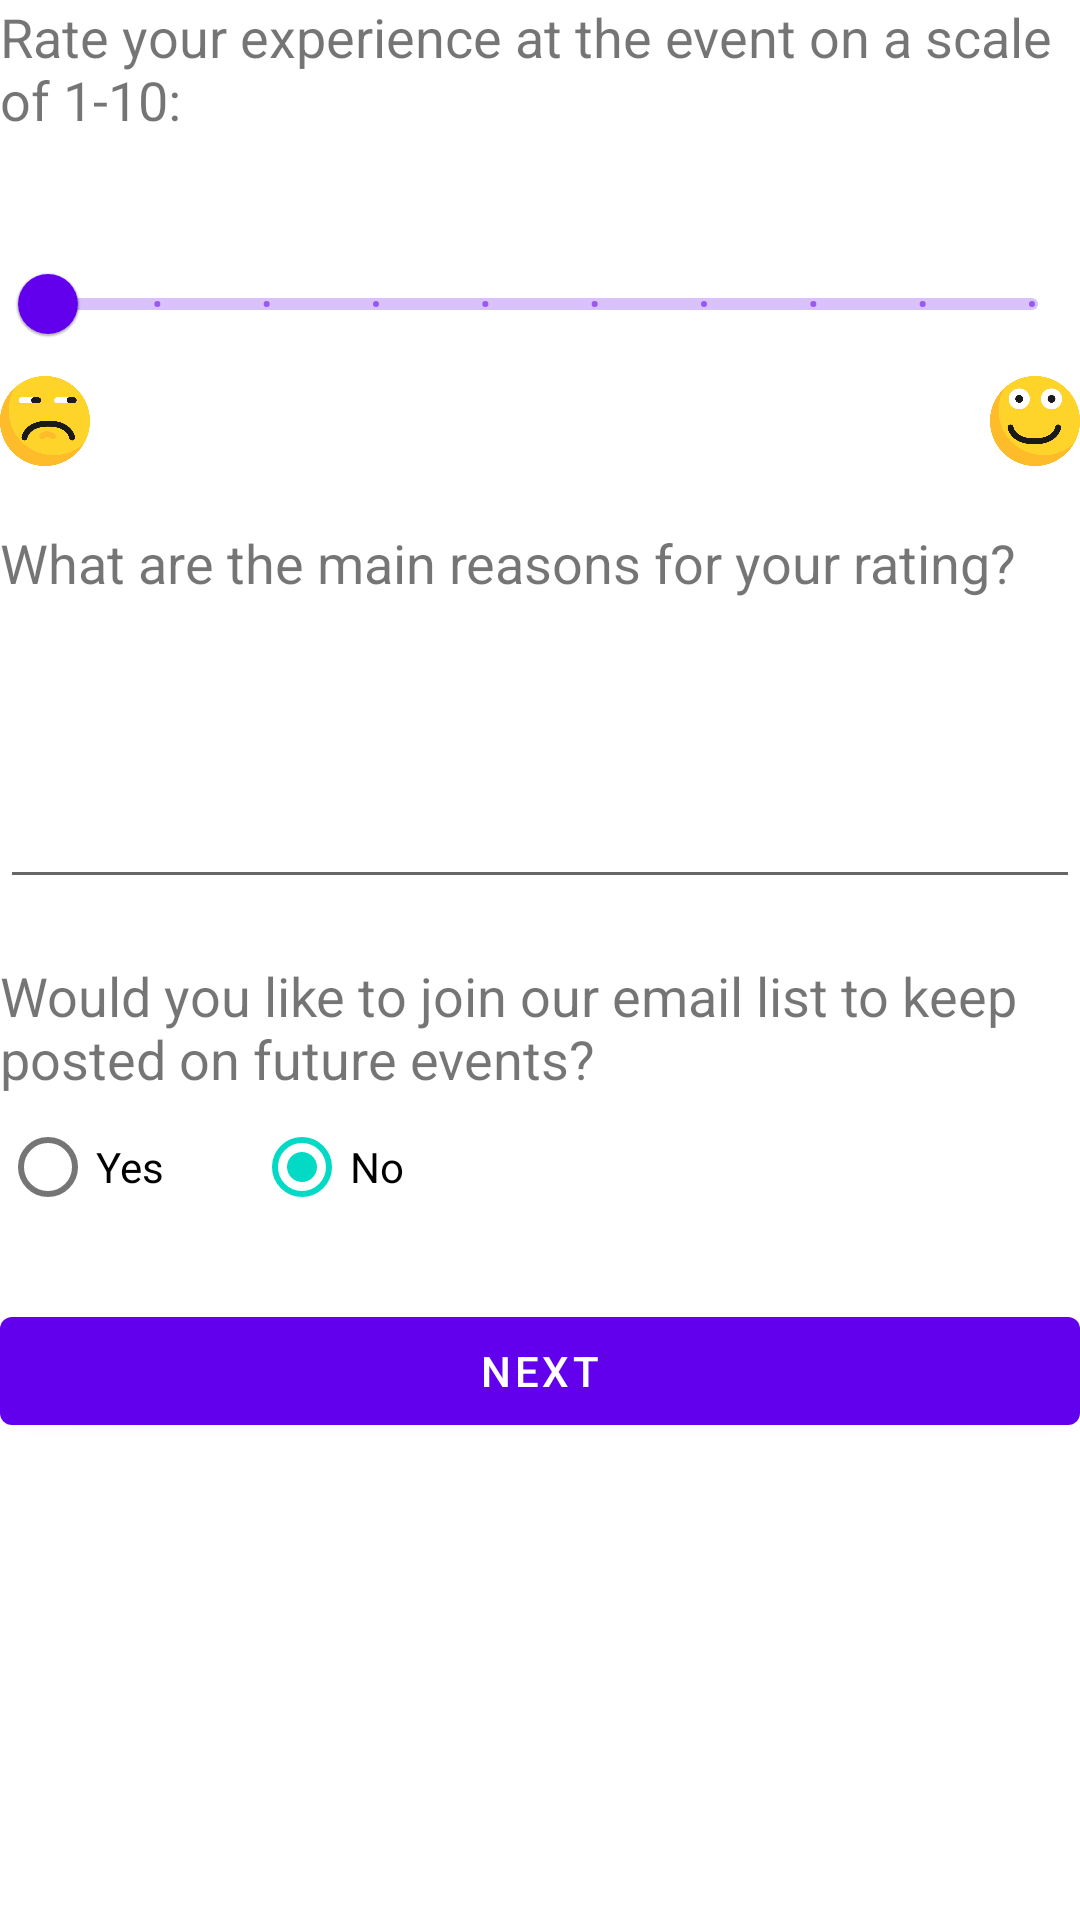

Named icons in this screenshot (1080w x 1920h) and their centers, (x=x, y=y):
sadface: (x=45, y=421)
smiley: (x=1035, y=421)
